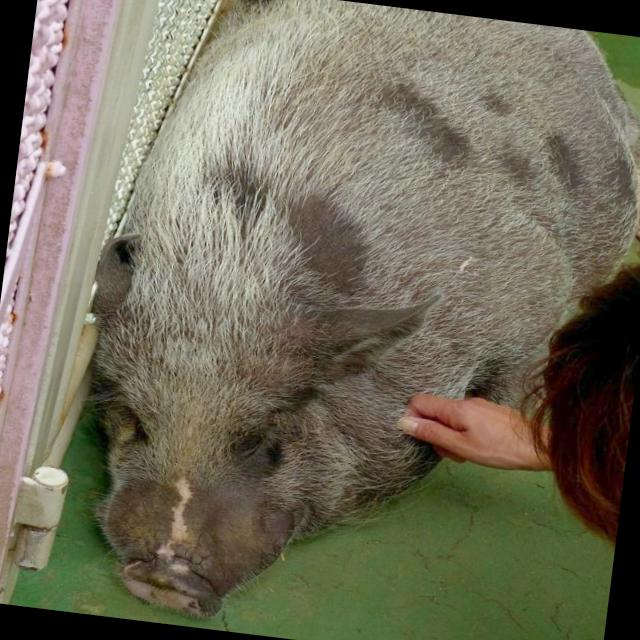pig: (93, 0, 640, 616)
